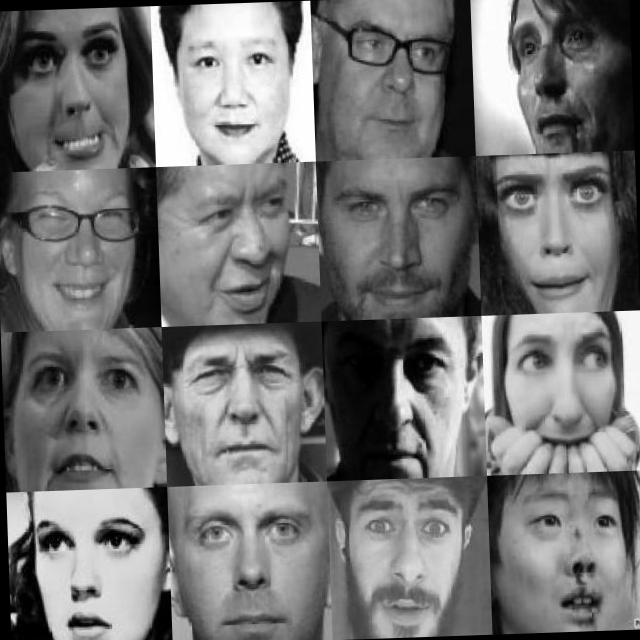angry: (11, 21, 135, 166), (34, 348, 146, 483)
fear: (504, 318, 629, 470), (27, 503, 162, 636), (500, 168, 625, 310), (349, 488, 476, 621), (508, 482, 618, 634)
happy: (9, 182, 148, 318), (171, 177, 305, 317)
neutral: (340, 332, 480, 470), (179, 350, 316, 481), (334, 5, 459, 148), (346, 165, 466, 308), (175, 16, 300, 153), (198, 504, 308, 636)
sad: (493, 2, 627, 156)
